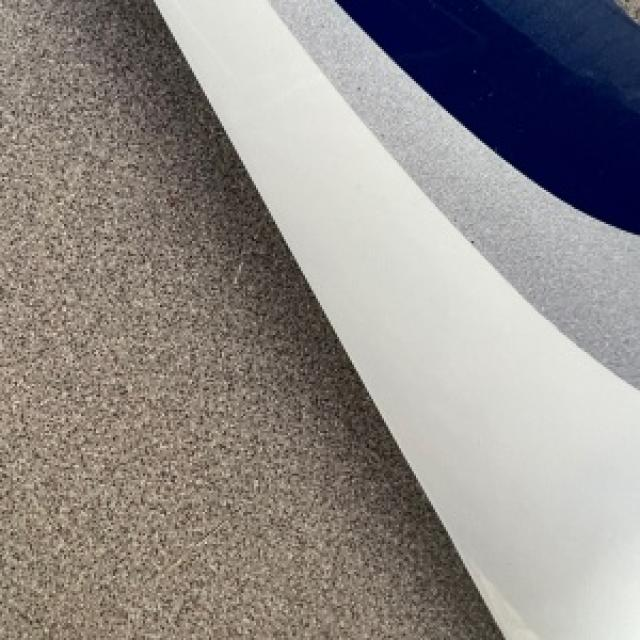healthy: (0, 0, 497, 638), (154, 0, 638, 638)
